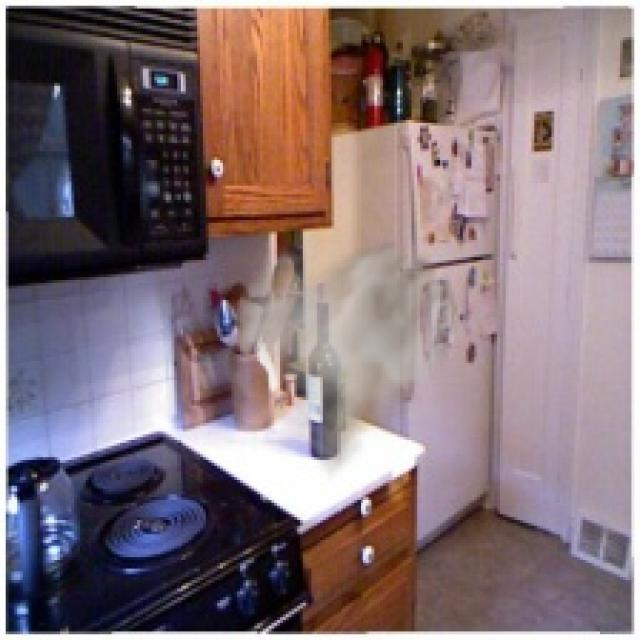smoke: (223, 217, 480, 483)
